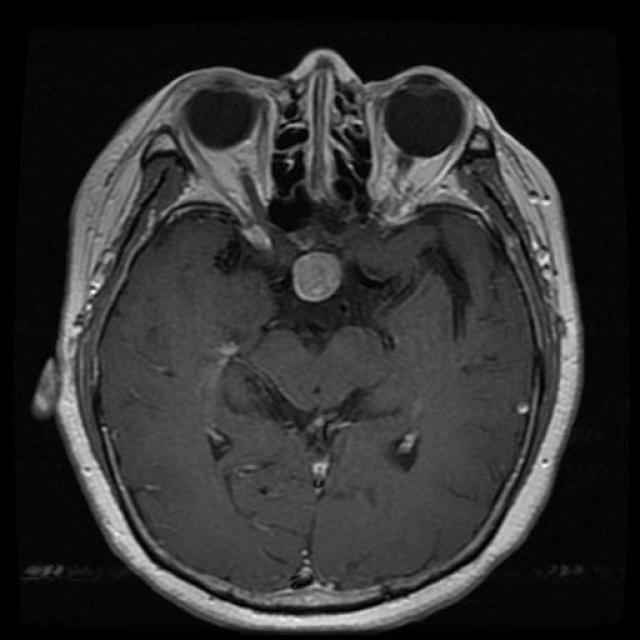pituitary: (282, 242, 367, 328)
